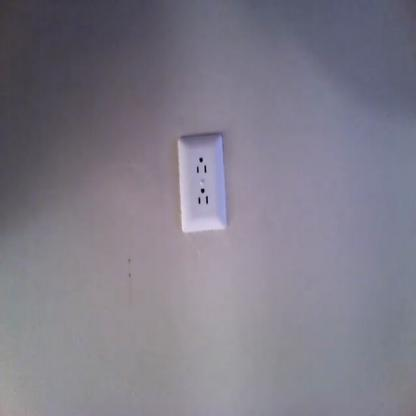OUTLET: (177, 132, 227, 235)
